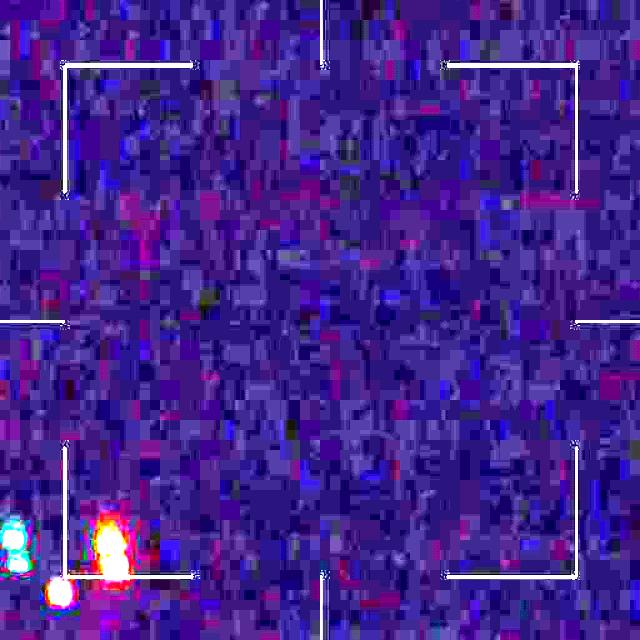bird: (2, 519, 129, 602)
